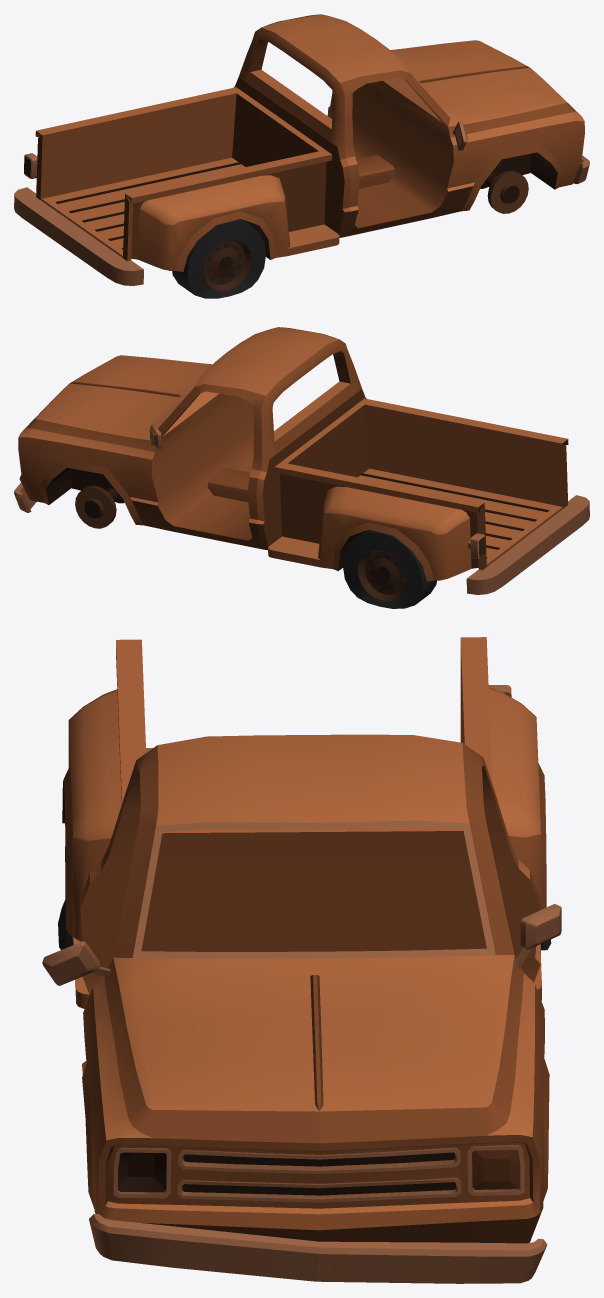
File: Car_093.glb
3 renders of one model, top to bottom at view 1: azimuth 30°, elevation 25°; view 2: azimuth 150°, elevation 25°; view 3: azimuth 270°, elevation 25°, orthographic. The views are drawn at different scales.
Parts seen in each view (by area): view 1: Car_093, wheel_3_Car_093_Wheel_2R, wheel_0_Car_093_Axle_1; view 2: Car_093, wheel_2_Car_093_Wheel_2L, wheel_0_Car_093_Axle_1; view 3: Car_093.
Boxes of the visible parts, box(x1,y1,x2,y2) form: Car_093: box(14, 14, 589, 285); wheel_3_Car_093_Wheel_2R: box(172, 219, 265, 298); wheel_0_Car_093_Axle_1: box(480, 170, 528, 213); Car_093: box(14, 327, 589, 594); wheel_2_Car_093_Wheel_2L: box(343, 529, 436, 608); wheel_0_Car_093_Axle_1: box(75, 485, 124, 528); Car_093: box(42, 637, 561, 1283).
Size of the model in its own units: 4.84 by 1.6 by 2.25.
1 material, 1 textured.
